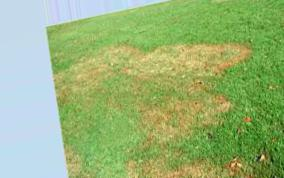patch: (110, 46, 232, 65), (158, 83, 226, 116), (148, 120, 196, 159), (137, 160, 236, 174)
